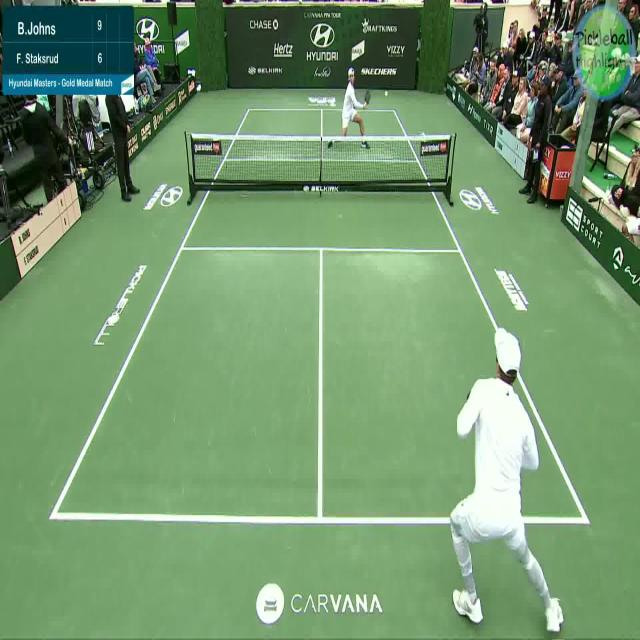ball: (384, 86, 389, 101)
